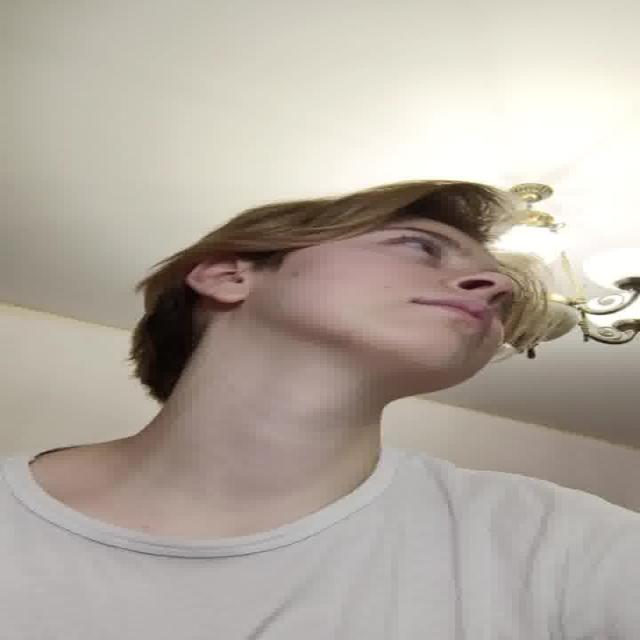earlobe: (190, 259, 252, 305)
